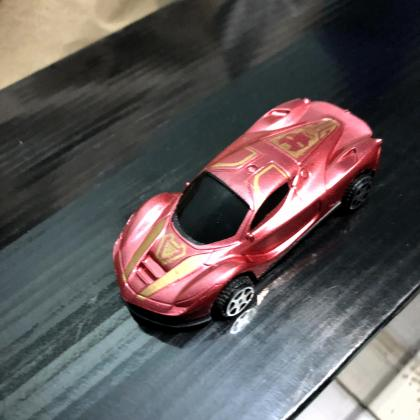Car: (112, 98, 383, 329)
